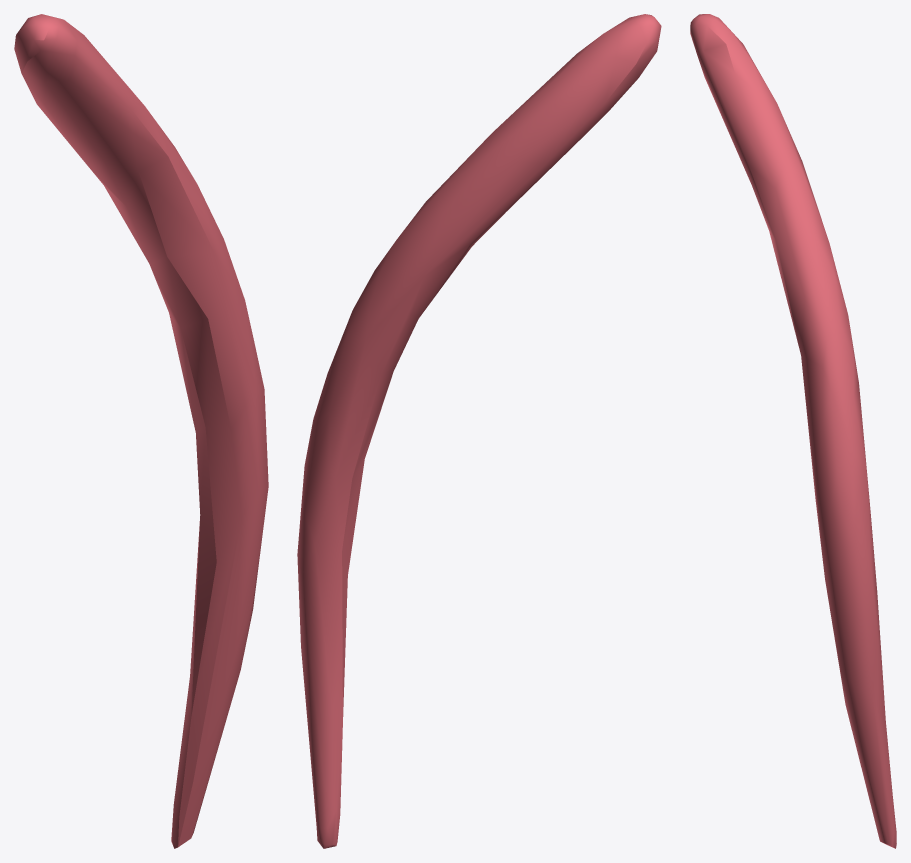
File: fma9428_fj6112.glb
3 views of the same model, side by side, from view 1: azimuth 30°, elevation 25°; view 2: azimuth 150°, elevation 25°; view 3: azimuth 270°, elevation 25° (orthographic). The views are drawn at different scales.
Visible parts, largest first — view 1: FMA9428_FJ6112; view 2: FMA9428_FJ6112; view 3: FMA9428_FJ6112.
Part boxes in pixels (x1,y1,x2,y2): FMA9428_FJ6112: (14,14,268,848); FMA9428_FJ6112: (297,14,661,848); FMA9428_FJ6112: (690,14,896,848).
Size of the model in its own units: 0.0193 by 0.0536 by 0.0136.
